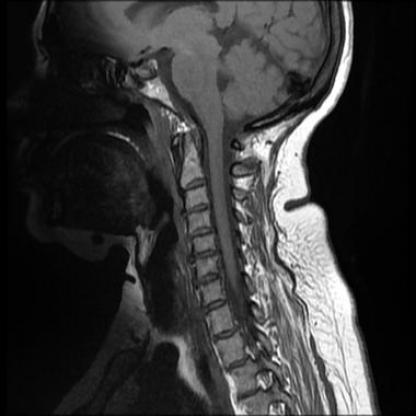Disc Protrusionrotation: (186, 226, 217, 240), (190, 249, 222, 262), (195, 273, 224, 286), (182, 204, 212, 215)
Osteophytesrotation: (185, 226, 217, 239), (189, 249, 221, 261), (195, 273, 224, 286), (182, 205, 212, 216)
